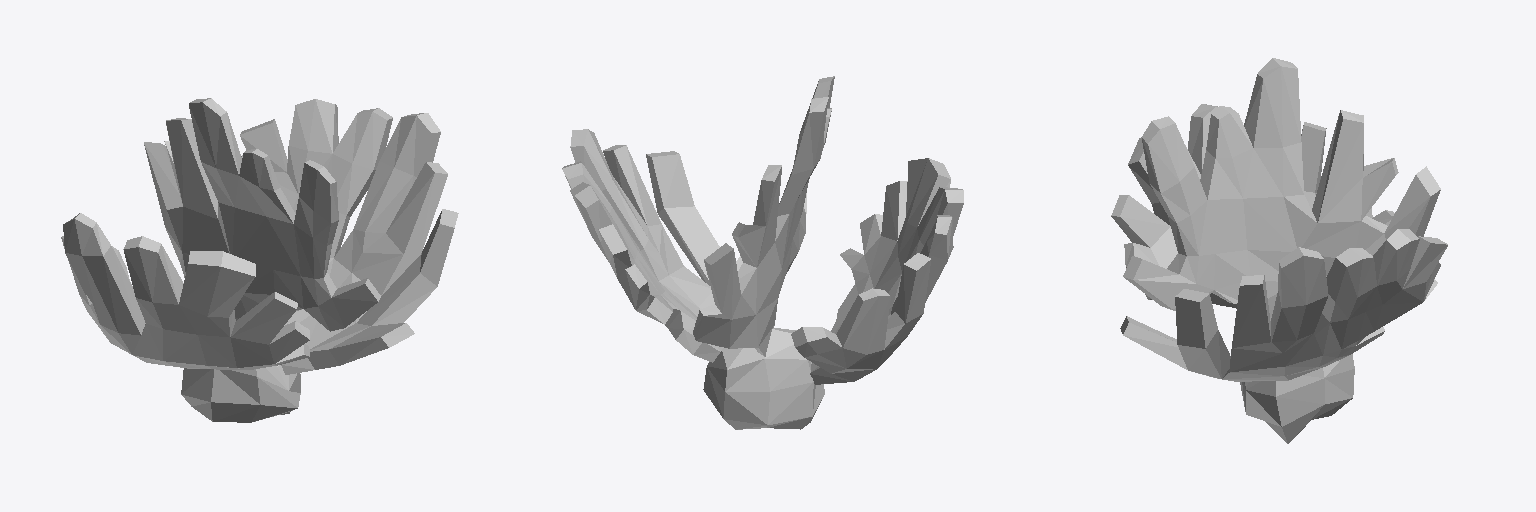
Rendered from Elkhorn_03_LOD2.obj.
3 views of the same model, side by side, from view 1: azimuth 30°, elevation 25°; view 2: azimuth 150°, elevation 25°; view 3: azimuth 270°, elevation 25° (orthographic).
Visible parts, largest first — view 1: Elkhorn_03_LOD2_Cube.553; view 2: Elkhorn_03_LOD2_Cube.553; view 3: Elkhorn_03_LOD2_Cube.553.
Boxes of the visible parts, box(x1,y1,x2,y2) form: Elkhorn_03_LOD2_Cube.553: box(61, 98, 458, 422); Elkhorn_03_LOD2_Cube.553: box(562, 76, 963, 429); Elkhorn_03_LOD2_Cube.553: box(1111, 58, 1447, 443).
Size of the model in its own units: 11.02 by 9.66 by 8.67.